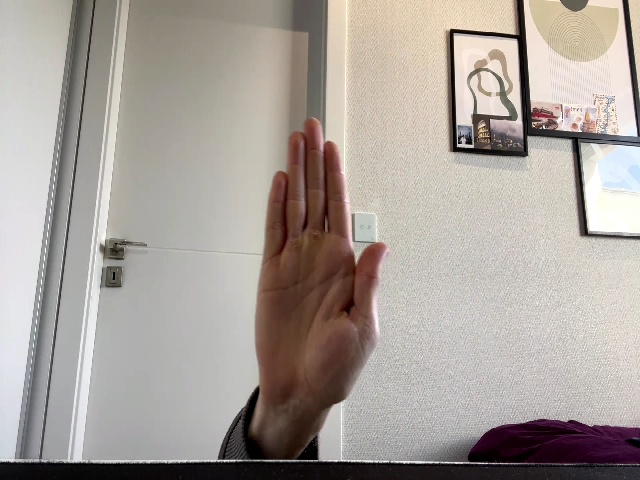B: (255, 118, 389, 414)
